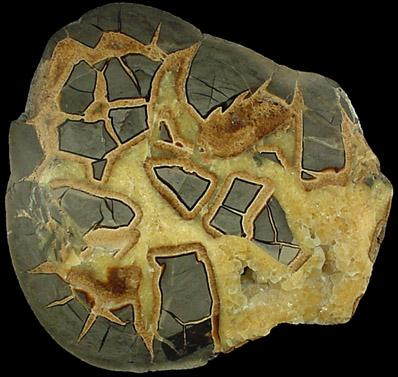calcite: (27, 23, 393, 356), (151, 46, 394, 352), (29, 118, 224, 360)
